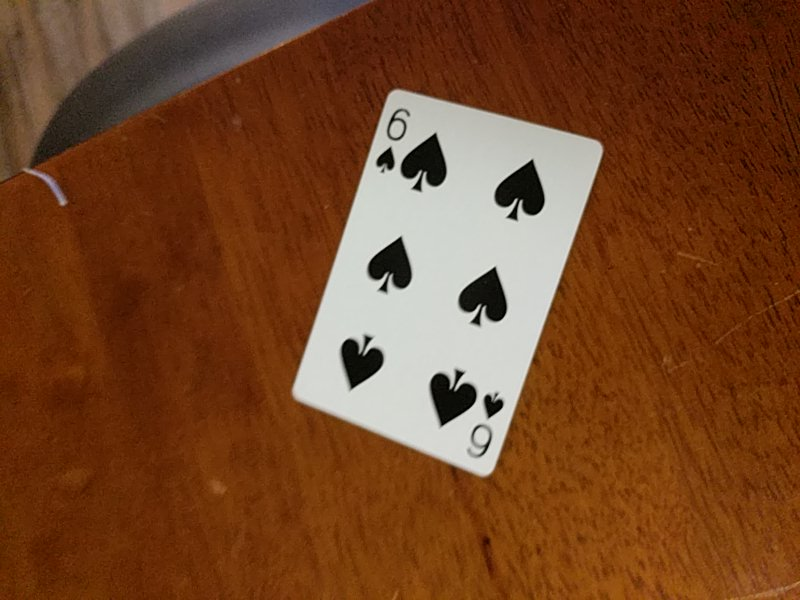Spades: (287, 87, 605, 484)
